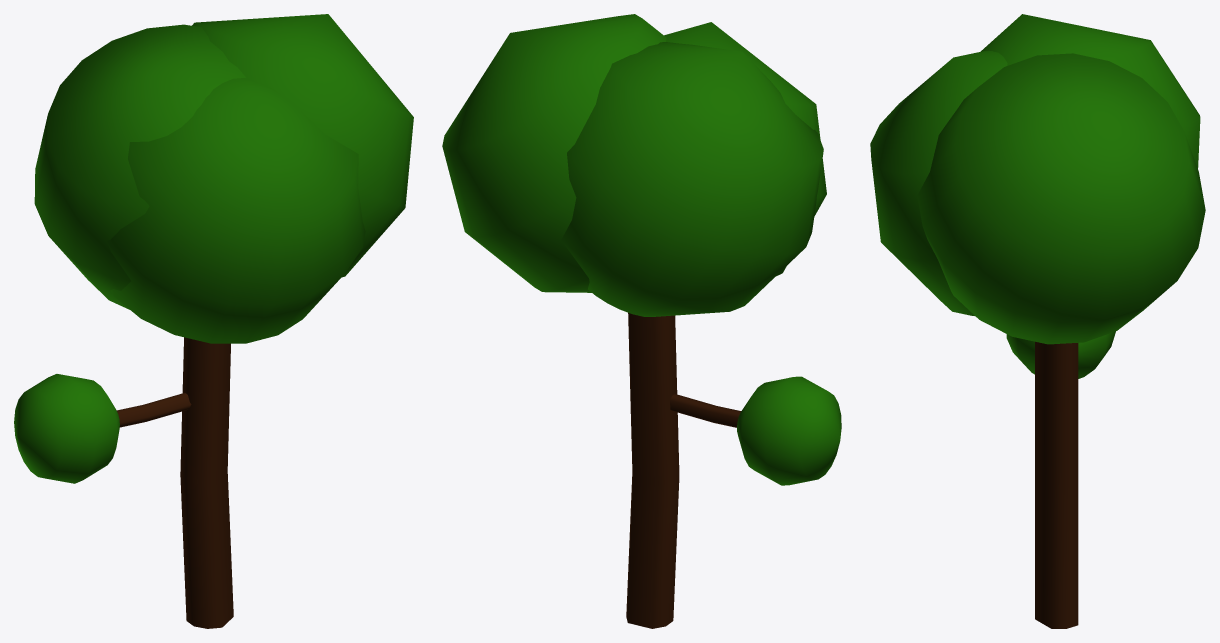
The model's file is Tree.fbx.
3 views of the same model, side by side, from view 1: azimuth 30°, elevation 25°; view 2: azimuth 150°, elevation 25°; view 3: azimuth 270°, elevation 25° (orthographic).
Parts seen in each view (by area): view 1: Shrubery:pSphere13; view 2: Shrubery:pSphere13; view 3: Shrubery:pSphere13.
Boxes of the visible parts, box(x1,y1,x2,y2) form: Shrubery:pSphere13: box(14, 14, 413, 628); Shrubery:pSphere13: box(442, 14, 841, 628); Shrubery:pSphere13: box(870, 14, 1205, 628).
Bounding box in the file's own units: 18.13 × 26.43 × 14.
